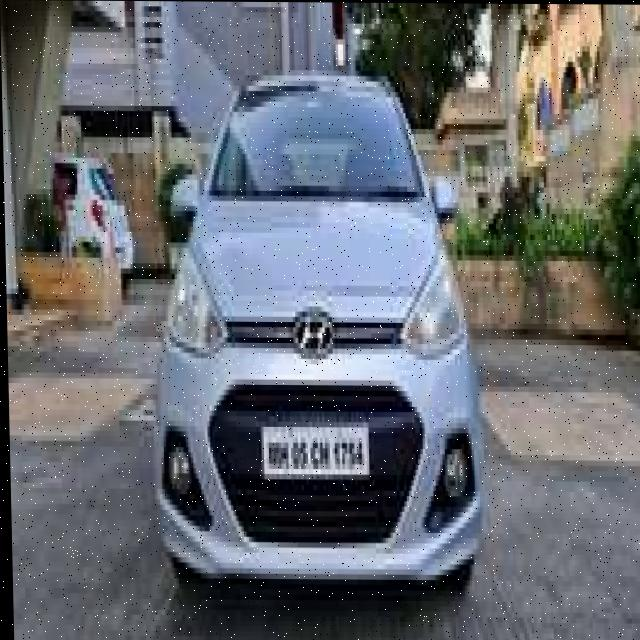plate: (258, 423, 367, 479)
